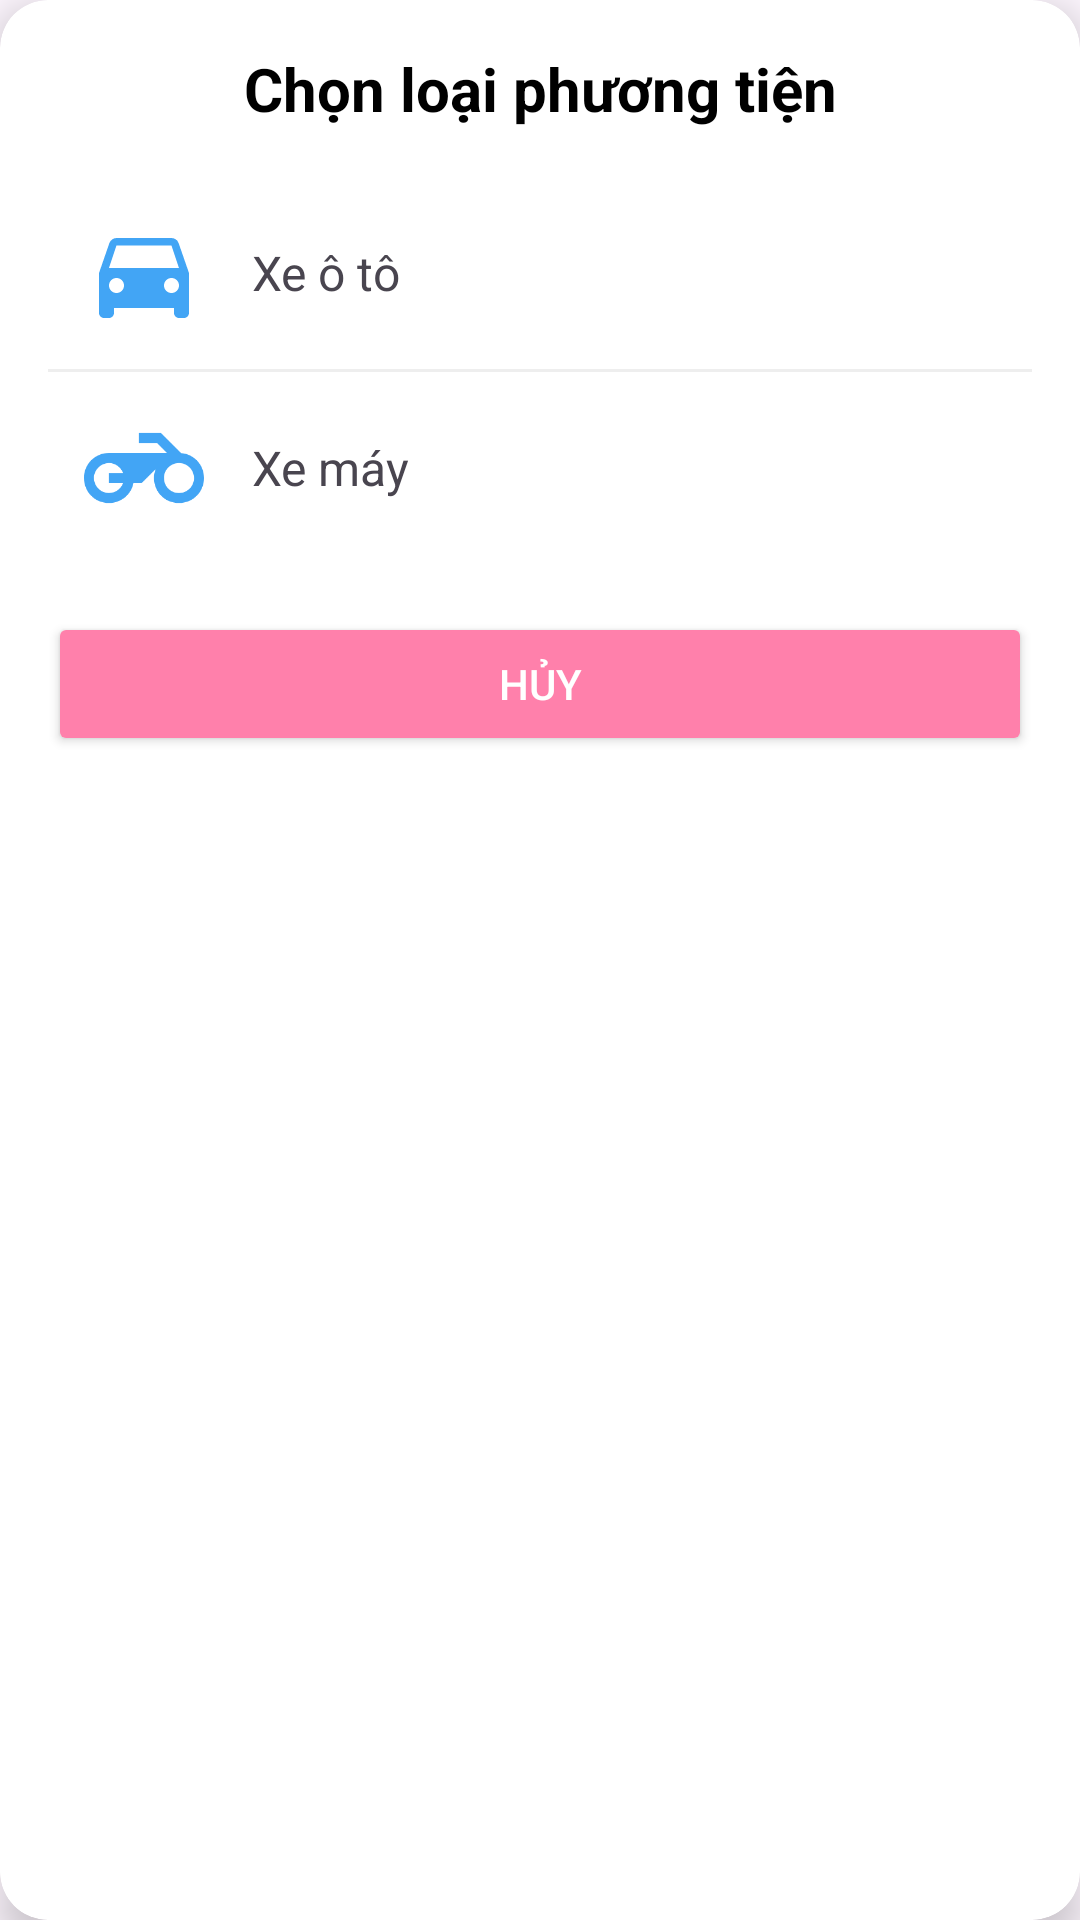

Screen size 1080px×1920px. Icon name, then its box in pixels as (x1, y1, x2, y2):
Car icon: (99, 238, 189, 318)
Motorcycle icon: (84, 433, 204, 503)
